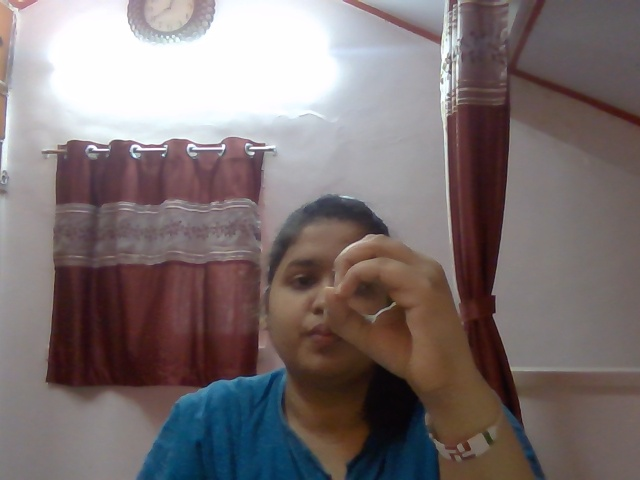o: (307, 226, 468, 387)
